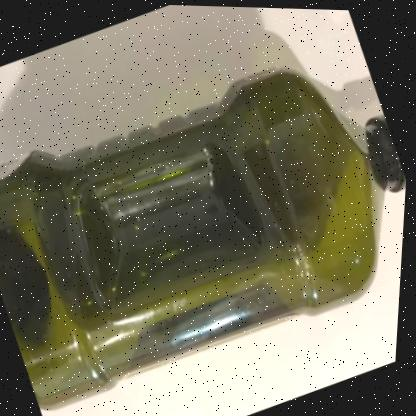Plastic: (0, 66, 408, 408)
